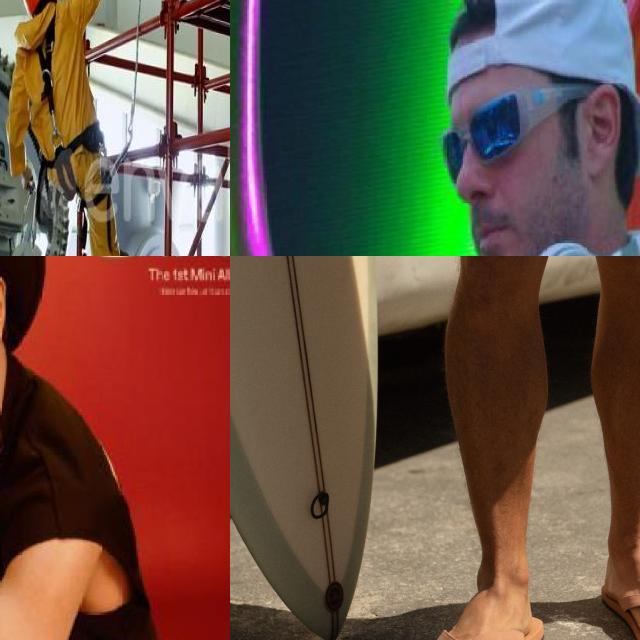Harness: (36, 16, 103, 192)
No_Ear-Protection: (578, 78, 623, 177), (0, 275, 9, 347)
Sandals: (600, 549, 640, 640)
face_nomask: (433, 90, 539, 256)
glasses: (454, 76, 630, 170)
head_nohelmet: (437, 0, 640, 91)
person: (0, 256, 215, 640), (362, 0, 640, 256)
